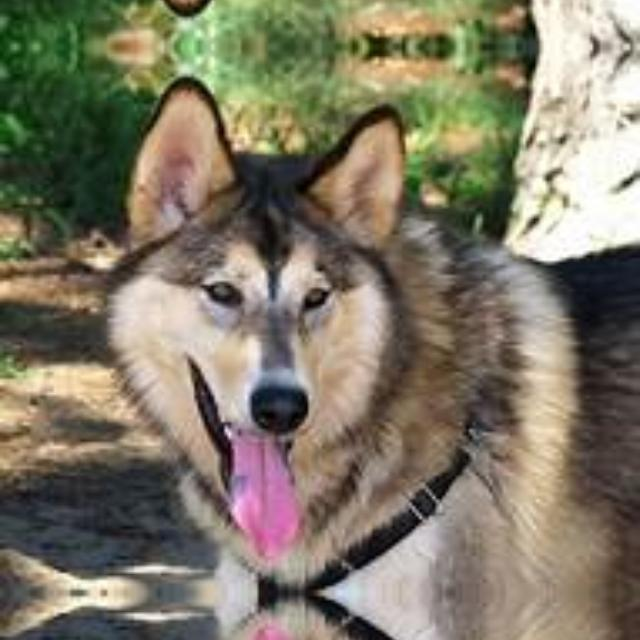dog: (91, 102, 585, 592), (91, 592, 585, 640)
